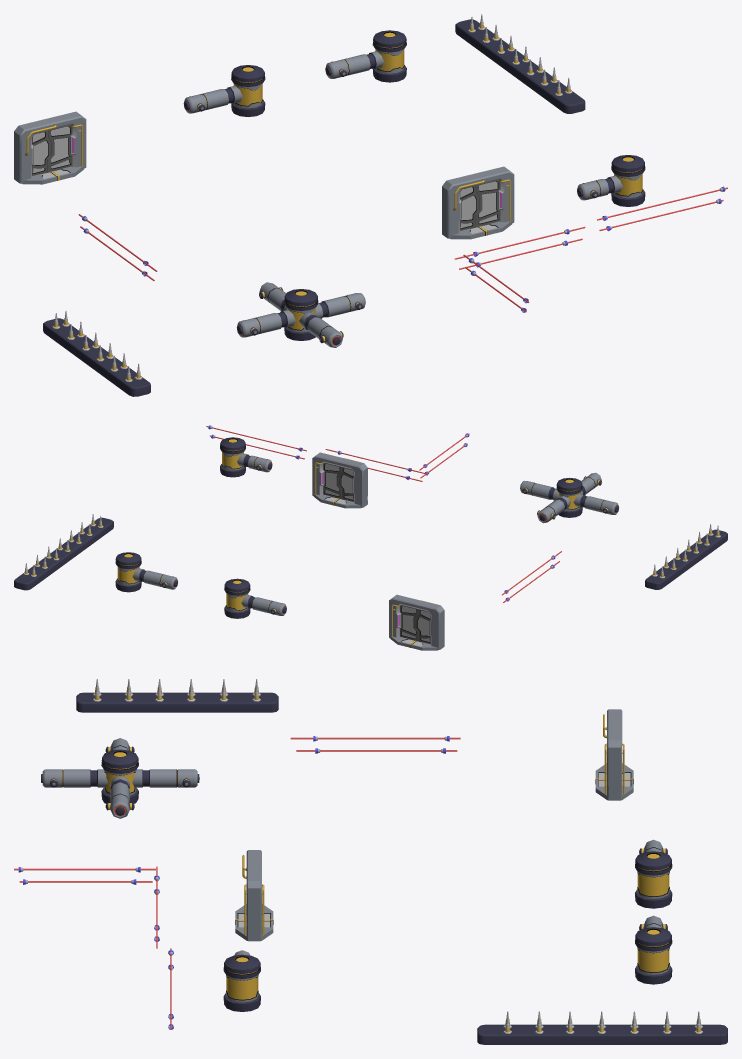
3 views of the same model, one above another, from view 1: azimuth 30°, elevation 25°; view 2: azimuth 150°, elevation 25°; view 3: azimuth 270°, elevation 25° (orthographic). The views are drawn at different scales.
Parts seen in each view (by area): view 1: Base (×4), pCylinder13 (×4), pCylinder14 (×6), Right (×2), Left (×2); view 2: Base (×4), pCylinder13 (×4), pCylinder14 (×6), Right (×2), Left (×2); view 3: Base (×4), pCylinder13 (×4), pCylinder14 (×3), Base5 (×2).
Part boxes in pixels (bbox=[...]): Base (×4): bbox=[14, 19, 585, 396]; pCylinder13 (×4): bbox=[231, 30, 645, 340]; pCylinder14 (×6): bbox=[183, 51, 623, 347]; Right (×2): bbox=[47, 125, 499, 227]; Left (×2): bbox=[32, 130, 479, 230]; Base (×4): bbox=[14, 452, 727, 649]; pCylinder13 (×4): bbox=[115, 437, 582, 618]; pCylinder14 (×6): bbox=[132, 453, 619, 615]; Right (×2): bbox=[323, 463, 418, 641]; Left (×2): bbox=[339, 467, 430, 643]; Base (×4): bbox=[76, 692, 727, 1044]; pCylinder13 (×4): bbox=[101, 749, 672, 1011]; pCylinder14 (×3): bbox=[41, 769, 199, 818]; Base5 (×2): bbox=[235, 763, 633, 940].
Size of the model in its own units: 522 by 47.11 by 460.
